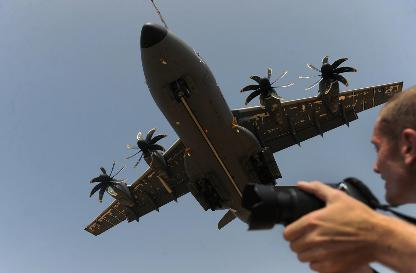A400M: (84, 0, 402, 235)
